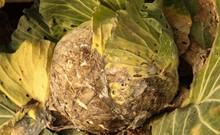damaged_cabbage: (20, 7, 203, 135)
